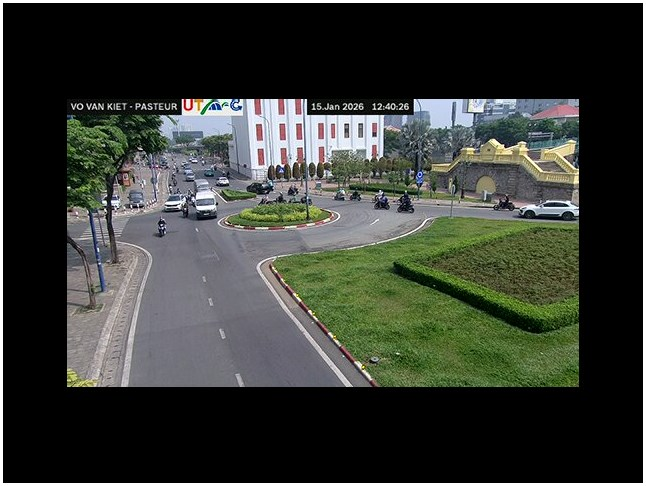car: (517, 200, 579, 220), (193, 193, 217, 220), (246, 180, 274, 193), (252, 179, 275, 192), (165, 194, 185, 206)
